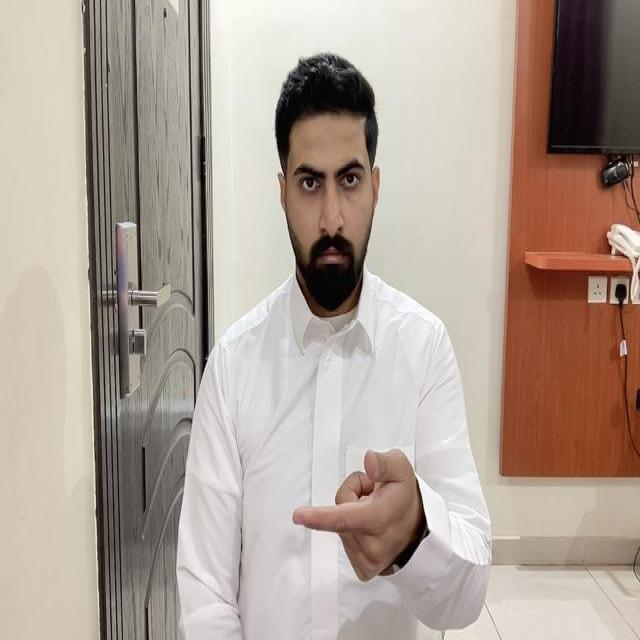dispensing: (291, 447, 422, 581)
